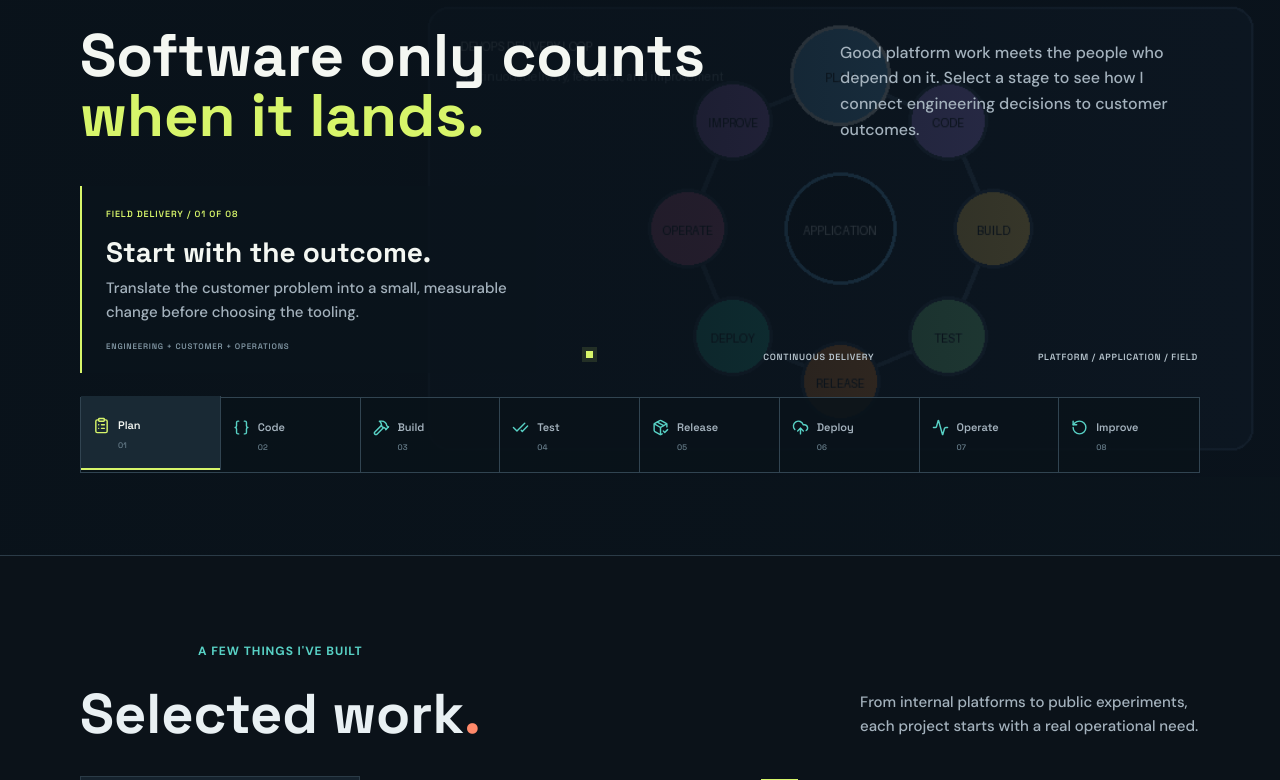
Scenario: portfolio website › switches the delivery stage narrative with accessible tabs
(page scrolled)
Click the tab "Deploy 06": [850, 435] box x1=780 y1=398 x2=920 y2=472
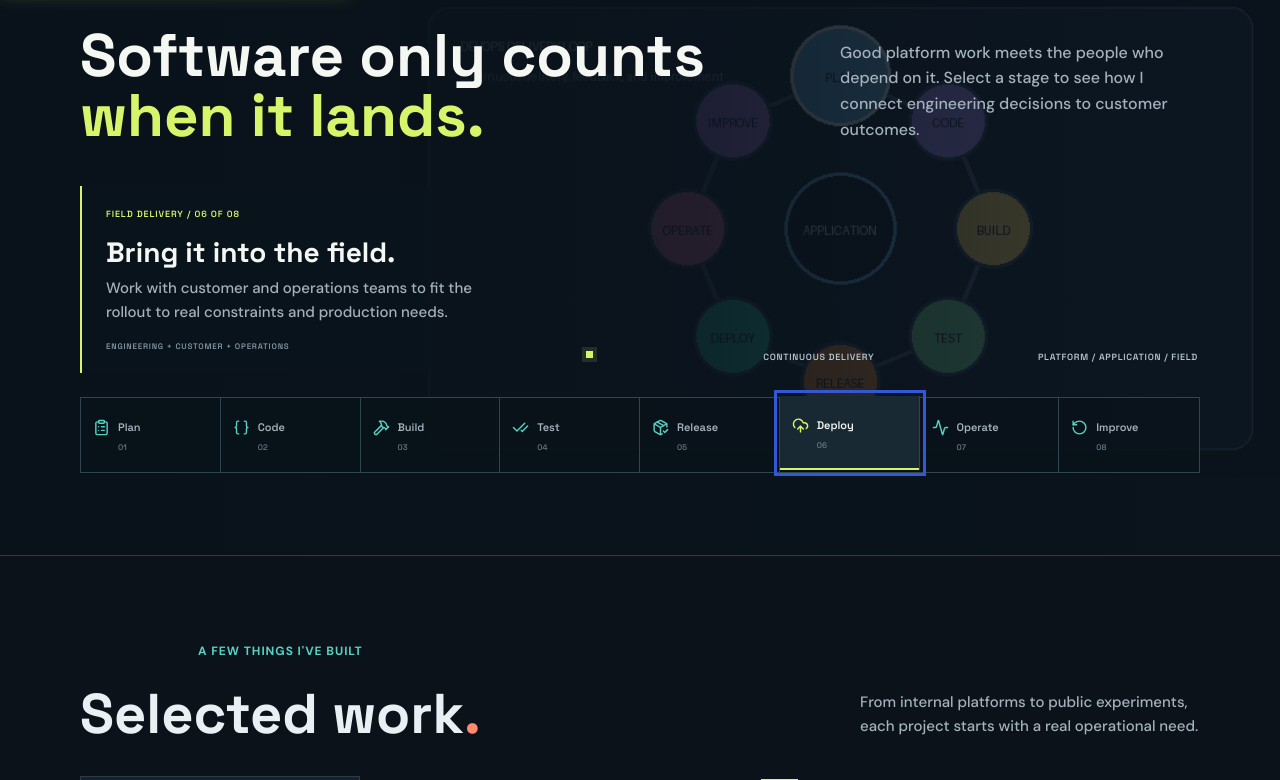
Expected: the panel shows "Bring it into the field.", x1=106 y1=234 x2=396 y2=270
Expected: the panel shows "customer and operations teams", x1=106 y1=278 x2=472 y2=322
